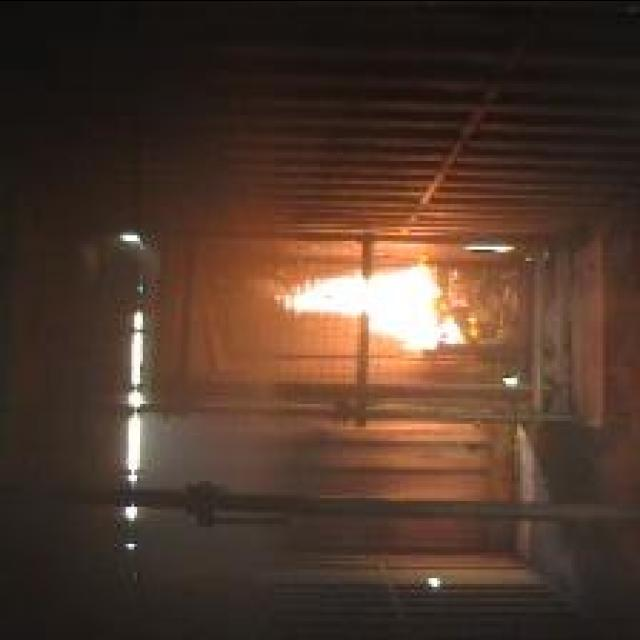Fire: (272, 254, 464, 357)
